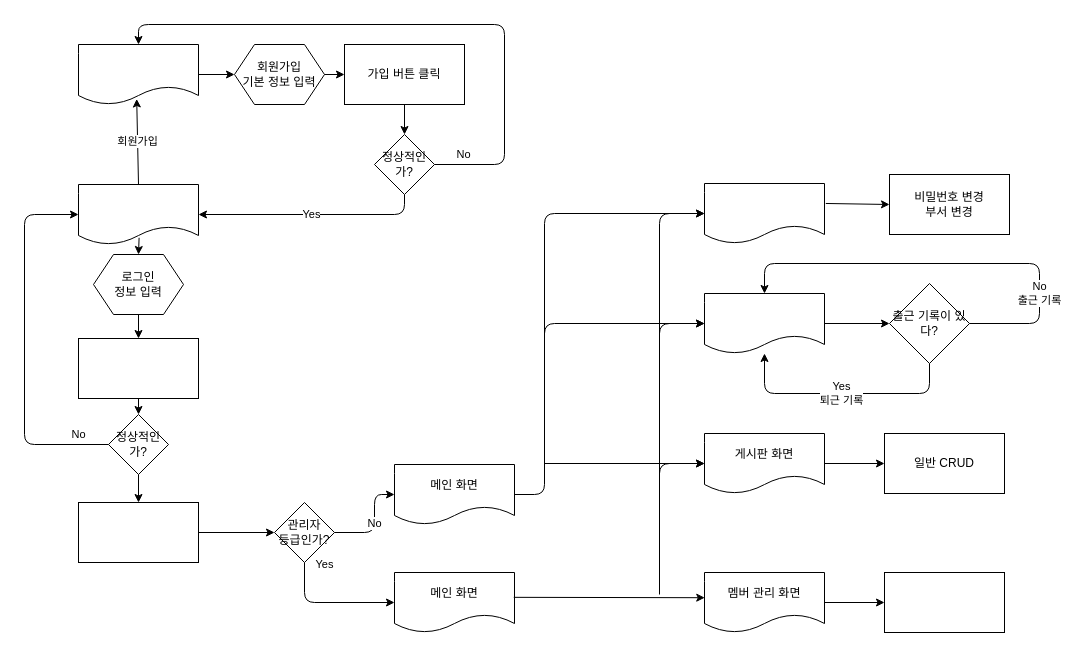
Image size: 1079x650. Some labels were removed from this diagram. The box of each missing label's shape, as (x1, y1, x2, y2) in pixels:
내 정보 관리 화면: (704, 182, 824, 244)
로그인 버튼 클릭: (78, 338, 198, 398)
로그인 화면: (78, 184, 198, 244)
부서 CRUD 멤버 RUD: (884, 572, 1004, 632)
사용자 등급 확인: (78, 502, 198, 562)
출퇴근 화면: (704, 292, 824, 354)
회원 가입 화면: (78, 44, 198, 104)
